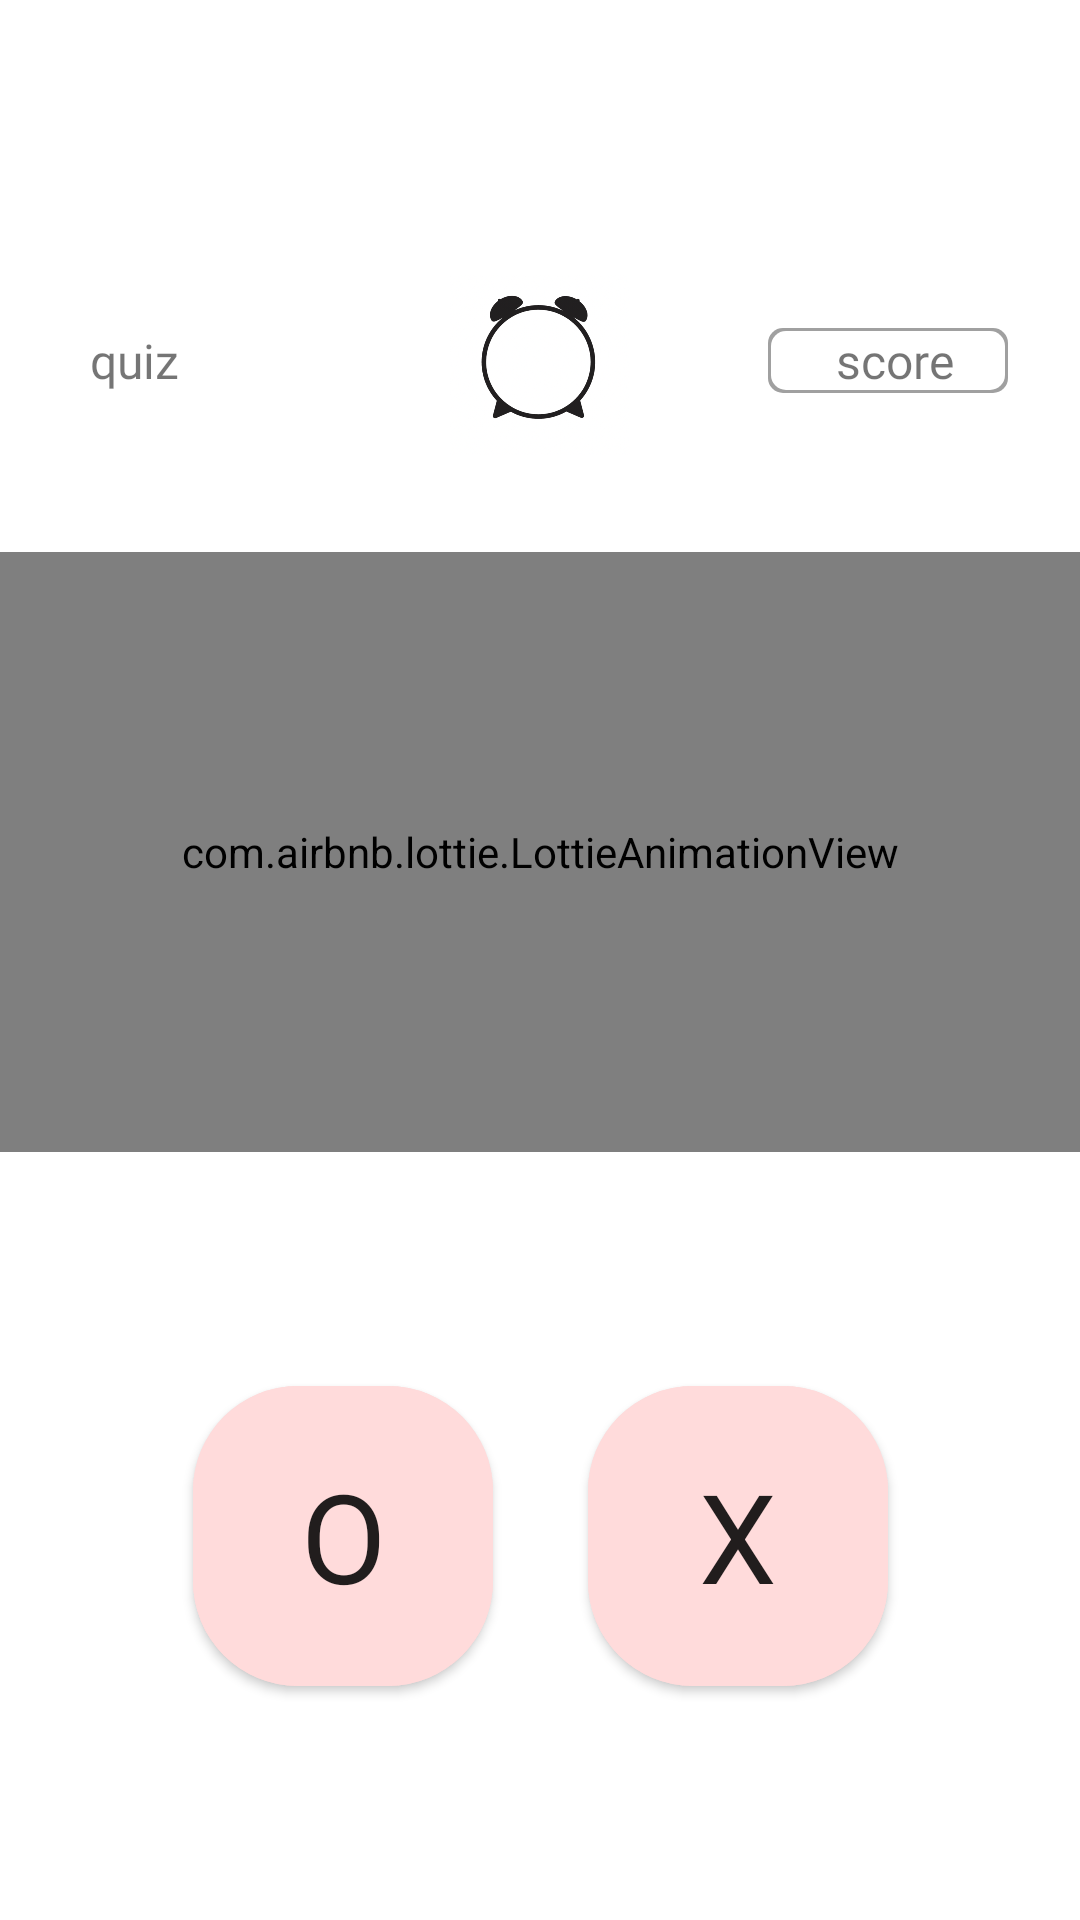

Icons on this 1080 x 1920 Android screen, each with its box as (x1, y1, x2, y2):
clock shape: (481, 296, 595, 419)
